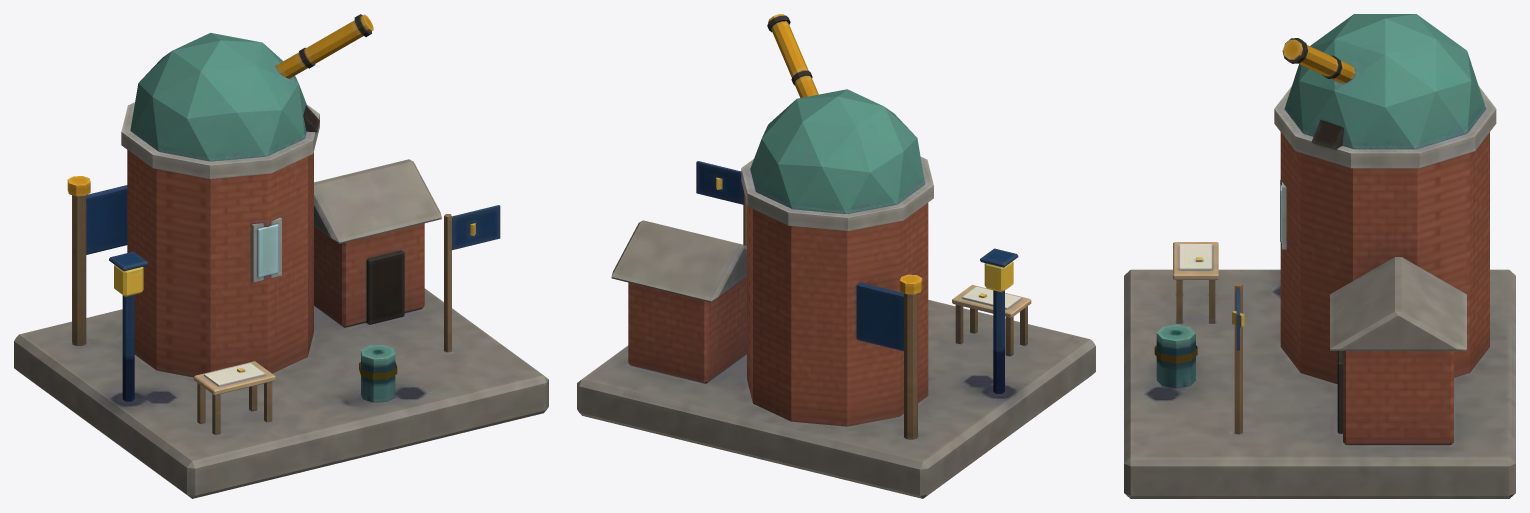
The model's file is observatory-10.glb.
3 views of the same model, side by side, from view 1: azimuth 30°, elevation 25°; view 2: azimuth 150°, elevation 25°; view 3: azimuth 270°, elevation 25° (orthographic). The views are drawn at different scales.
Visible parts, largest first — view 1: observatory-10; view 2: observatory-10; view 3: observatory-10.
Boxes of the visible parts, x1,y1,x2,y2 form: observatory-10: (14, 14, 548, 498); observatory-10: (577, 14, 1095, 498); observatory-10: (1124, 14, 1515, 498).
Size of the model in its own units: 1.4 by 1.36 by 1.2.
Materials: 1 (1 with a texture image).
